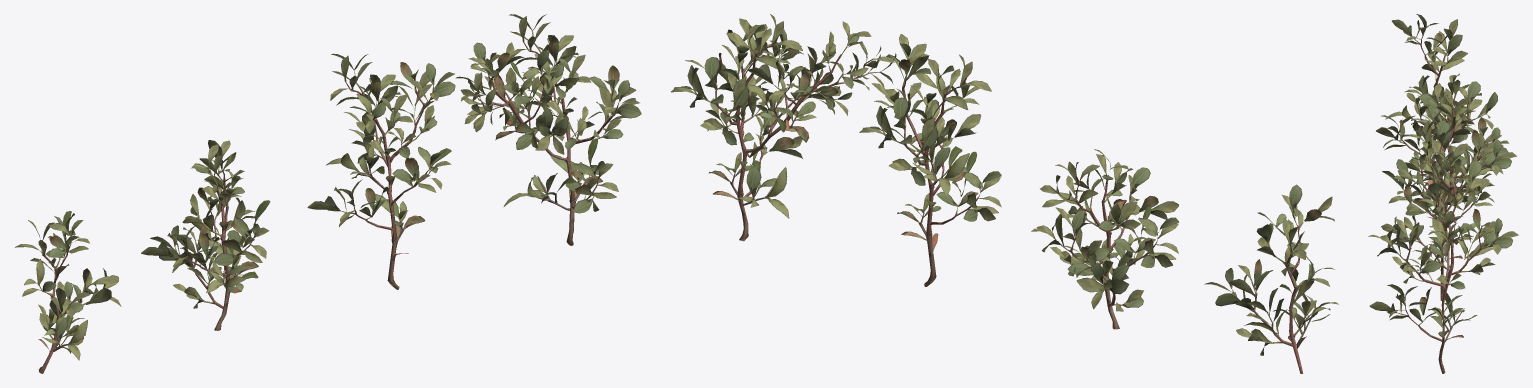
File: shrub_04.glb
3 renders of one model, left to right at view 1: azimuth 30°, elevation 25°; view 2: azimuth 150°, elevation 25°; view 3: azimuth 270°, elevation 25°, orthographic. The views are drawn at different scales.
Parts seen in each view (by area): view 1: shrub_04; view 2: shrub_04; view 3: shrub_04.
Boxes of the visible parts, x1,y1,x2,y2 form: shrub_04: [15, 14, 641, 373]; shrub_04: [671, 14, 1338, 373]; shrub_04: [1368, 14, 1518, 373].
Size of the model in its own units: 0.5837 by 0.2192 by 0.1461.
1 material, 1 textured.
